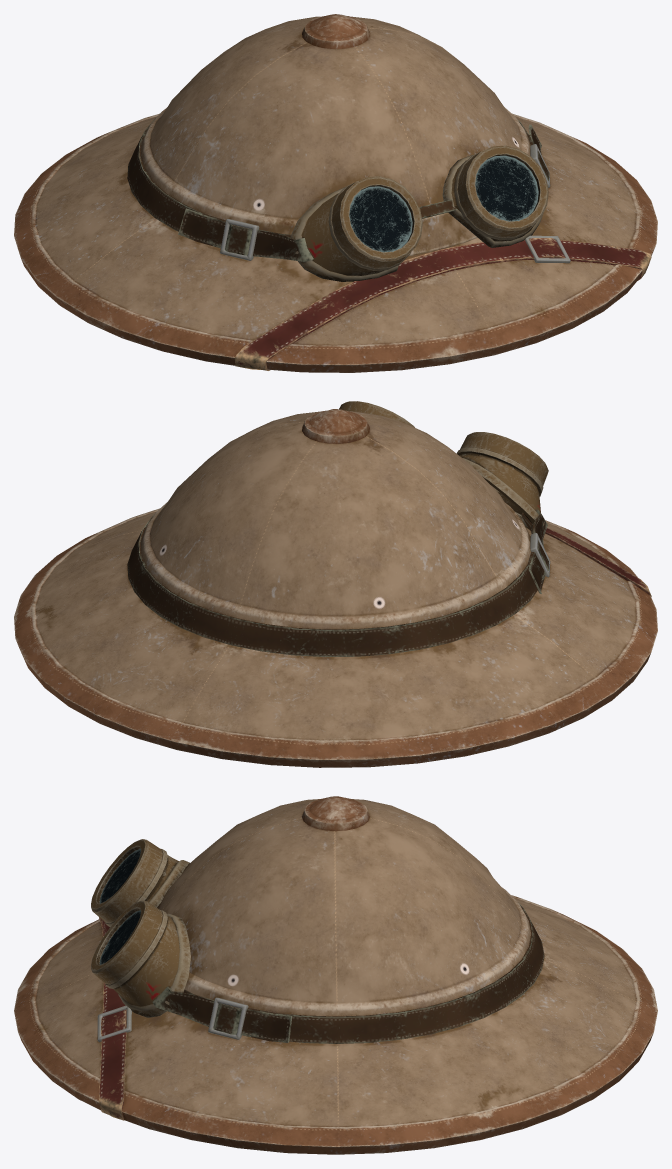
The model's file is weathered_pith_hat.glb.
The picture shows the model from 3 angles, top to bottom: view 1: azimuth 30°, elevation 25°; view 2: azimuth 150°, elevation 25°; view 3: azimuth 270°, elevation 25°; orthographic projection.
Parts seen in each view (by area): view 1: hat, goggles_base, hat_strap, goggle_strap, goggle_buckle; view 2: hat, goggle_strap, goggles_base, hat_strap; view 3: hat, goggles_base, goggle_strap, hat_strap, goggle_buckle.
Part boxes in pixels (<box>): hat: <box>14,14,657,372</box>; goggles_base: <box>290,145,548,281</box>; hat_strap: <box>234,238,651,370</box>; goggle_strap: <box>127,116,549,261</box>; goggle_buckle: <box>220,144,550,260</box>; hat: <box>14,409,657,767</box>; goggle_strap: <box>127,509,549,656</box>; goggles_base: <box>339,401,548,529</box>; hat_strap: <box>545,528,651,596</box>; hat: <box>14,796,657,1154</box>; goggles_base: <box>91,839,190,1017</box>; goggle_strap: <box>152,902,544,1043</box>; hat_strap: <box>98,917,126,1120</box>; goggle_buckle: <box>208,997,248,1039</box>.
Bounding box in the file's own units: 139 × 53.47 × 139.
Materials: 2 (2 with a texture image).
